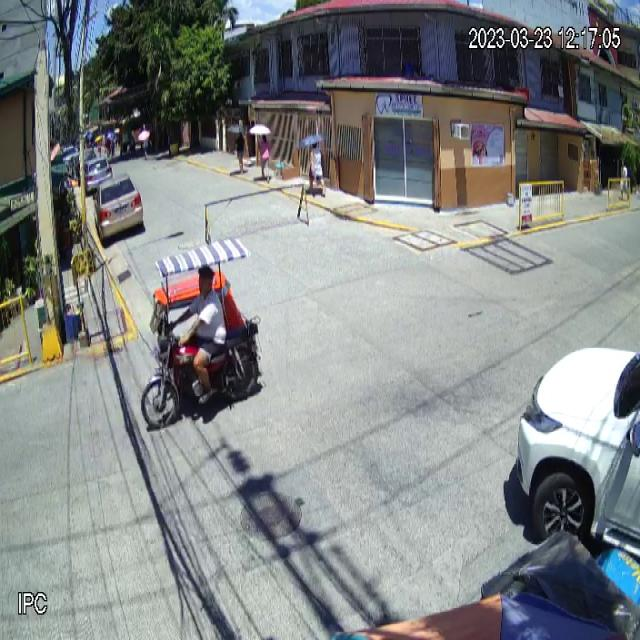Car: (94, 174, 144, 240)
Tricycle: (140, 238, 262, 433)
